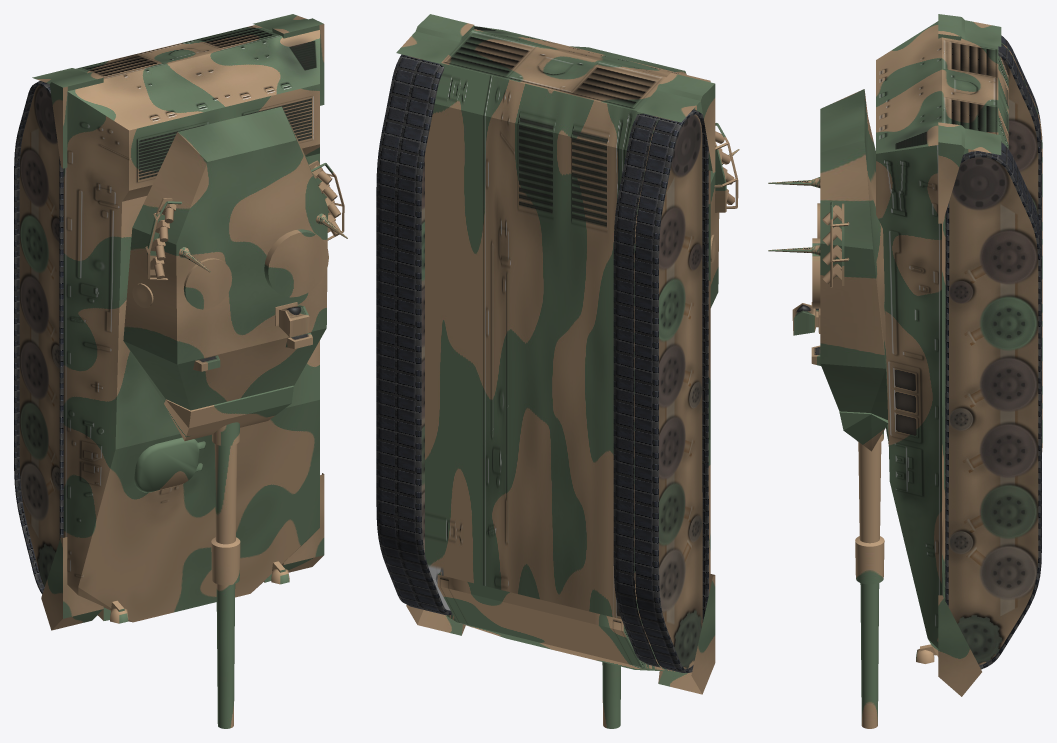
Rendered from TAM.glb.
3 renders of one model, left to right at view 1: azimuth 30°, elevation 25°; view 2: azimuth 150°, elevation 25°; view 3: azimuth 270°, elevation 25°, orthographic. The views are drawn at different scales.
Visible parts, largest first — view 1: TAM; view 2: TAM; view 3: TAM.
Boxes of the visible parts, x1,y1,x2,y2 form: TAM: (14,14,347,728); TAM: (376,14,739,728); TAM: (768,14,1042,728).
Bounding box in the file's own units: 3.35 × 7.9 × 3.03.
Materials: 11 (11 with a texture image).
